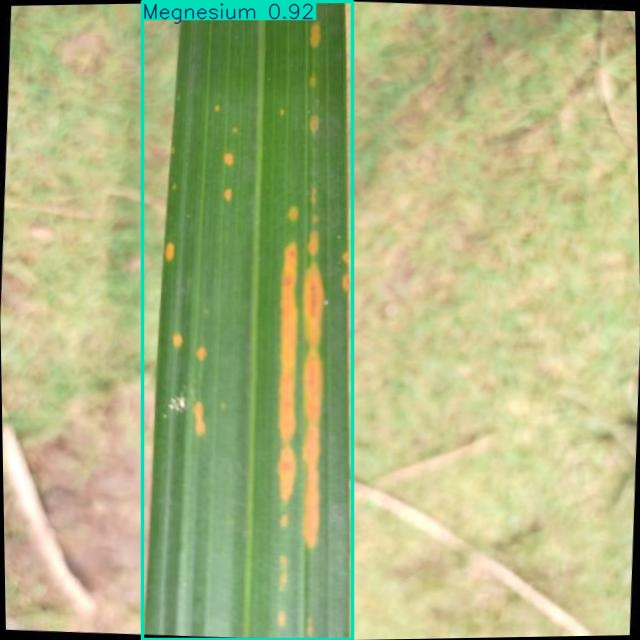Megnesium: (142, 2, 352, 640)
